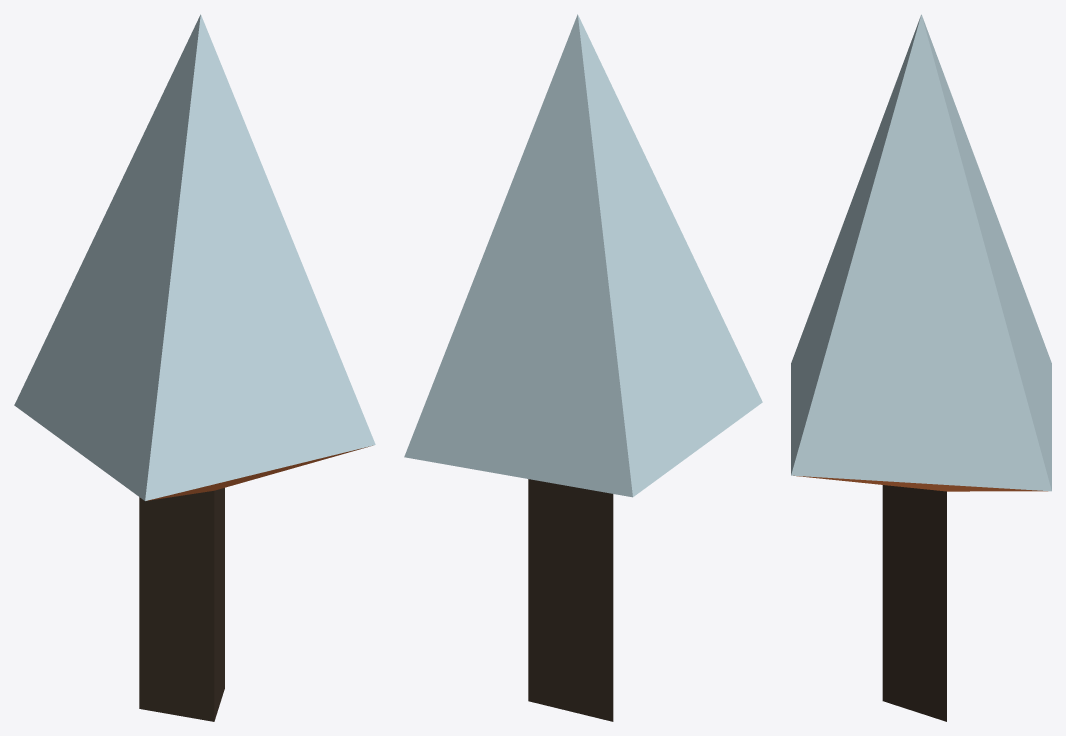
The model's file is SM_Env_Generic_Tree_07_Snow.fbx.
3 renders of one model, left to right at view 1: azimuth 30°, elevation 25°; view 2: azimuth 150°, elevation 25°; view 3: azimuth 270°, elevation 25°, orthographic.
Parts seen in each view (by area): view 1: SM_Env_Generic_Tree_07_Snow; view 2: SM_Env_Generic_Tree_07_Snow; view 3: SM_Env_Generic_Tree_07_Snow.
Boxes of the visible parts, left/top/right/bottom form: SM_Env_Generic_Tree_07_Snow: left=14, top=14, right=375, bottom=721; SM_Env_Generic_Tree_07_Snow: left=404, top=14, right=762, bottom=721; SM_Env_Generic_Tree_07_Snow: left=791, top=14, right=1051, bottom=721.
Bounding box in the file's own units: 41.72 × 120 × 41.
1 material, 1 textured.
